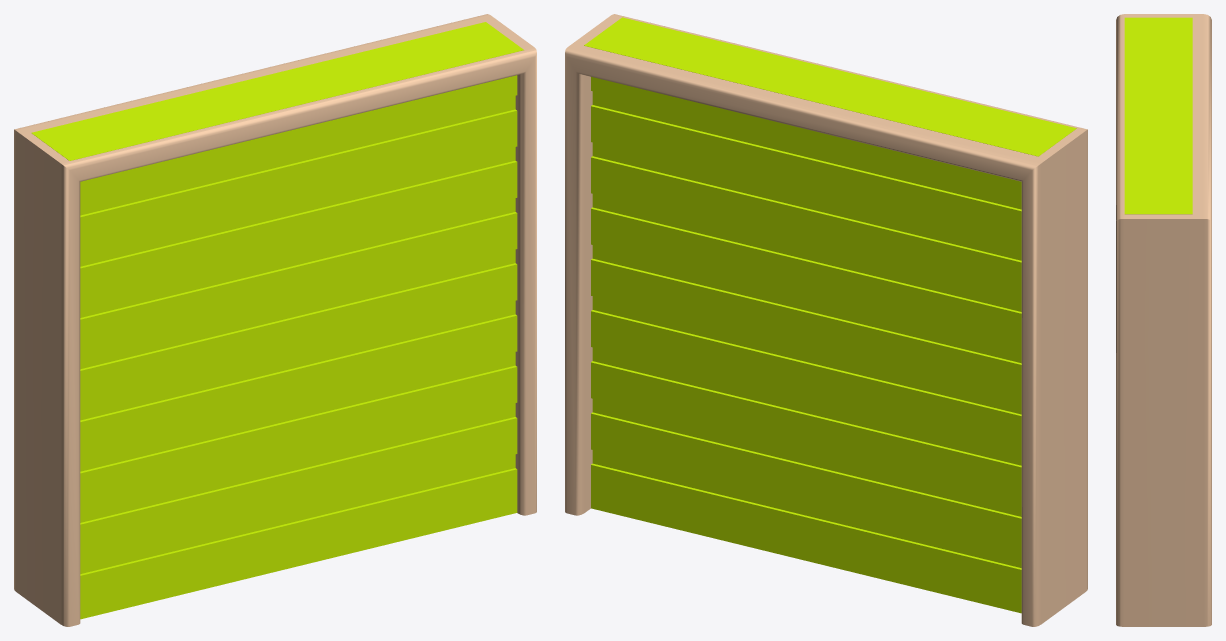
The model's file is Final_Door_Set.fbx.
The picture shows the model from 3 angles, left to right: view 1: azimuth 30°, elevation 25°; view 2: azimuth 150°, elevation 25°; view 3: azimuth 270°, elevation 25°; orthographic projection. The views are drawn at different scales.
Parts seen in each view (by area): view 1: pCube8, Door_Edge_3; view 2: pCube8, Door_Edge_3; view 3: Door_Edge_3, pCube8.
Part boxes in pixels (box(x1,y1,x2,y2)): pCube8: box(31, 22, 523, 619); Door_Edge_3: box(14, 14, 536, 626); pCube8: box(584, 17, 1076, 613); Door_Edge_3: box(565, 14, 1087, 626); Door_Edge_3: box(1116, 14, 1211, 626); pCube8: box(1124, 17, 1192, 214).
Size of the model in its own units: 159 by 148 by 31.5.
